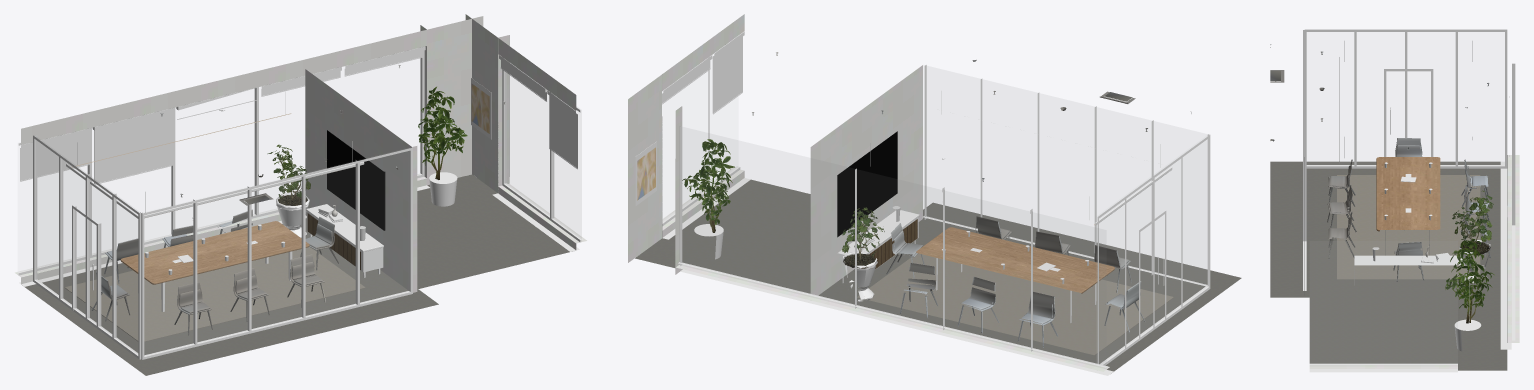
The model's file is z-open_n-lite.full.a430cf83.glb.
3 renders of one model, left to right at view 1: azimuth 30°, elevation 25°; view 2: azimuth 150°, elevation 25°; view 3: azimuth 270°, elevation 25°, orthographic. The views are drawn at different scales.
Parts seen in each view (by area): view 1: open_n_carpet, open_n_plaster, open_n_satin, open_n_glass, open_n_fx, open_n_oak, open_n_emit, open_n_veg_atlas, open_n_metal_lit, open_n_art, open_n_proxy_cab; view 2: open_n_carpet, open_n_plaster, open_n_glass, open_n_satin, open_n_fx, open_n_oak, open_n_emit, open_n_veg_atlas, open_n_metal_lit, open_n_art, open_n_proxy_cab; view 3: open_n_carpet, open_n_satin, open_n_oak, open_n_fx, open_n_veg_atlas, open_n_plaster, open_n_metal_lit.
Part boxes in pixels (<box>): open_n_carpet: <box>22,174,575,375</box>; open_n_plaster: <box>15,14,586,292</box>; open_n_satin: <box>17,46,582,359</box>; open_n_glass: <box>37,168,304,267</box>; open_n_fx: <box>92,65,505,335</box>; open_n_oak: <box>120,221,309,284</box>; open_n_emit: <box>71,113,385,230</box>; open_n_veg_atlas: <box>267,86,467,205</box>; open_n_metal_lit: <box>24,78,570,311</box>; open_n_art: <box>471,83,489,133</box>; open_n_proxy_cab: <box>307,213,360,269</box>; open_n_carpet: <box>635,179,1241,373</box>; open_n_plaster: <box>628,14,1109,371</box>; open_n_glass: <box>682,127,1207,364</box>; open_n_satin: <box>662,31,1210,375</box>; open_n_fx: <box>752,52,1191,347</box>; open_n_oak: <box>916,227,1114,293</box>; open_n_emit: <box>837,131,1095,237</box>; open_n_veg_atlas: <box>682,139,884,268</box>; open_n_metal_lit: <box>635,141,1164,371</box>; open_n_art: <box>637,147,655,200</box>; open_n_proxy_cab: <box>862,219,917,269</box>; open_n_carpet: <box>1270,161,1507,370</box>; open_n_satin: <box>1303,29,1515,372</box>; open_n_oak: <box>1376,157,1440,231</box>; open_n_fx: <box>1270,44,1490,281</box>; open_n_veg_atlas: <box>1445,190,1494,323</box>; open_n_plaster: <box>1304,155,1519,368</box>; open_n_metal_lit: <box>1385,107,1501,349</box>.
Bounding box in the file's own units: 10.25 × 3.3 × 5.05.
13 materials, 7 textured.
